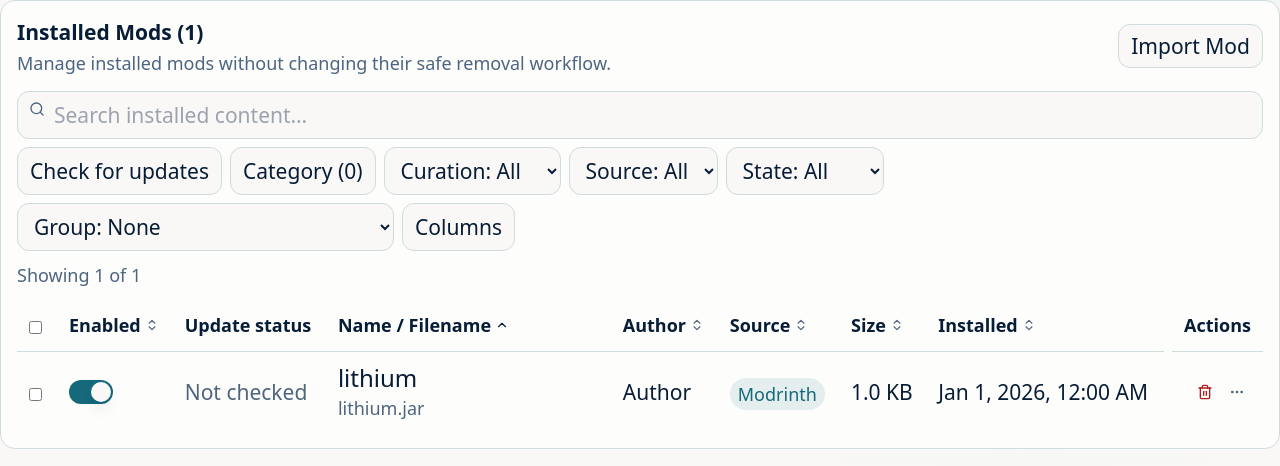
Scenario: InstalledContentPanel Update All › shows a newer-Minecraft note instead of an update, and never counts it
The width and height of the screenshot is (1280, 466).
What coordinates should you click on to do the following:
click the button "Check for updates"
I would click on:
 (120, 171)
Its box is [17,147,222,195].
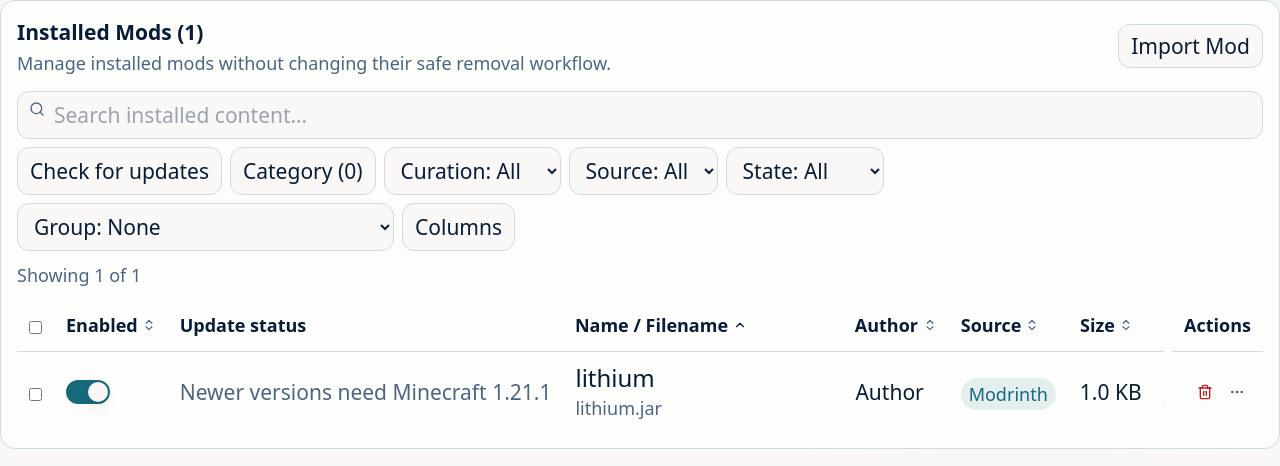
Expected: the text "Newer versions need Minecraft 1.21.1" is shown, [180,378,552,406]
